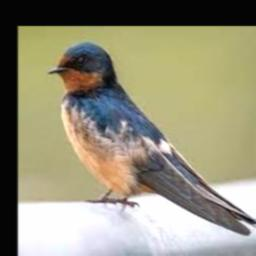Swallow: (49, 40, 256, 236)
